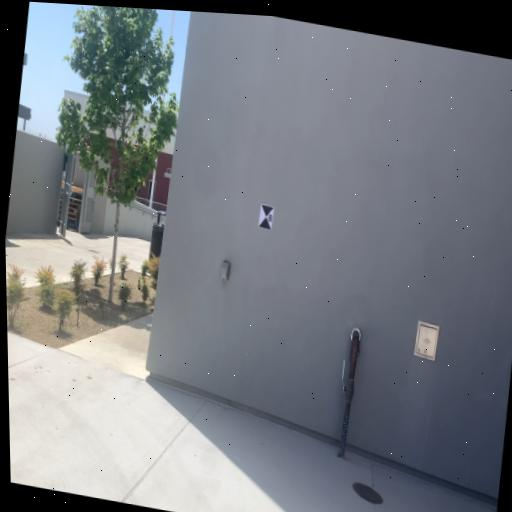target8: (258, 204, 275, 232)
